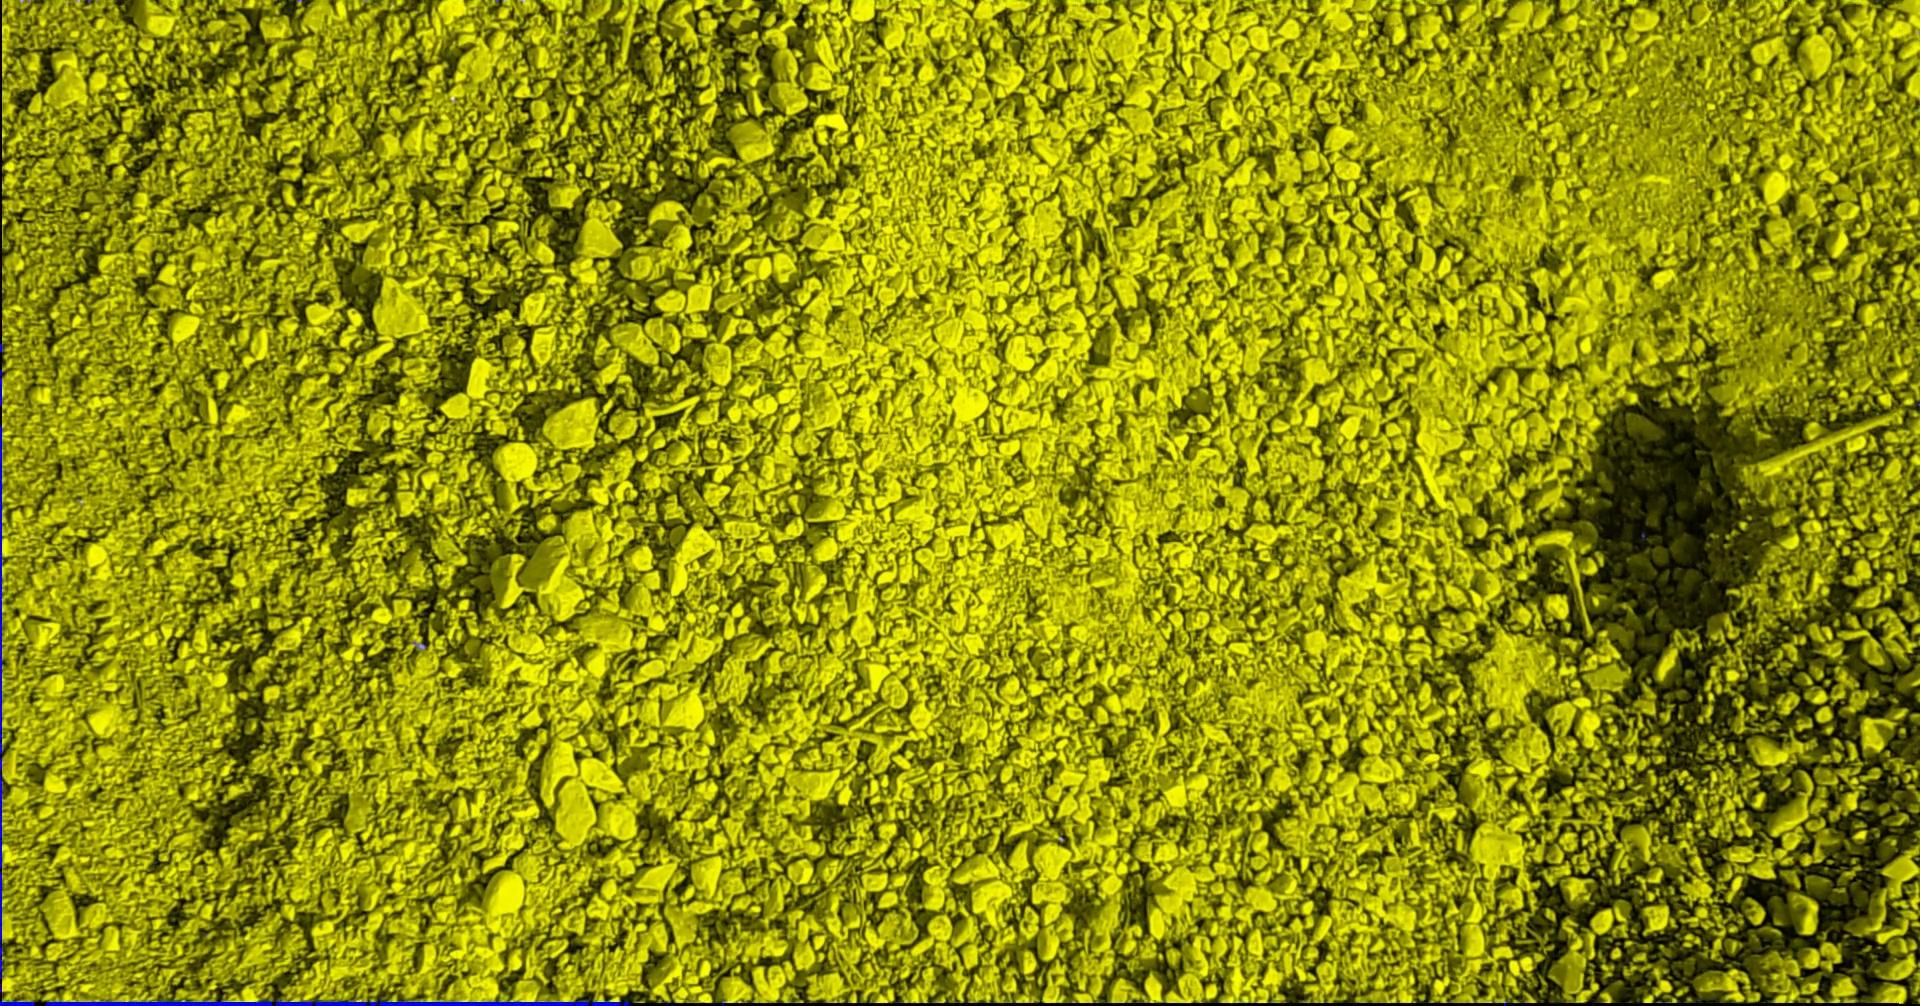ant: (1, 1000, 37, 1005)
